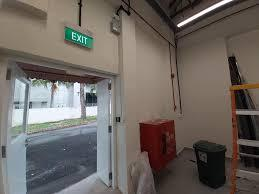exit: (5, 59, 114, 193)
lit_exit_sign: (65, 27, 92, 47)
